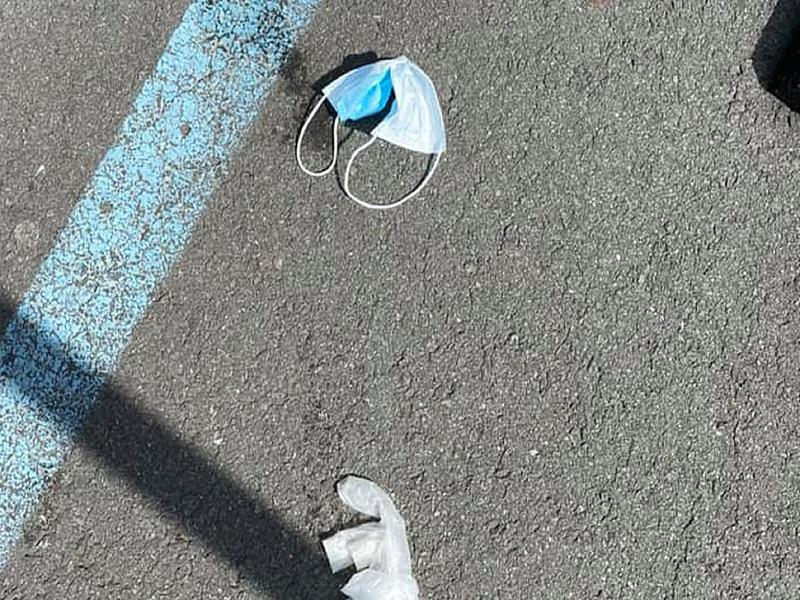gloves: (300, 474, 456, 600)
mask: (291, 52, 458, 212)
